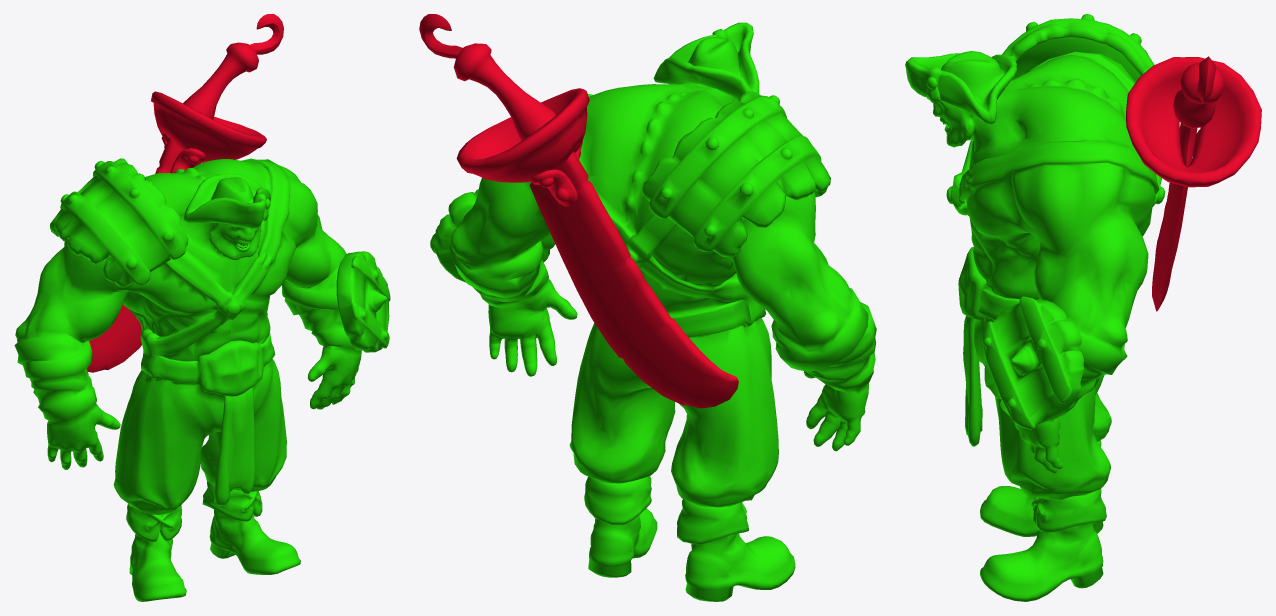
3 renders of one model, left to right at view 1: azimuth 30°, elevation 25°; view 2: azimuth 150°, elevation 25°; view 3: azimuth 270°, elevation 25°, orthographic. The views are drawn at different scales.
Visible parts, largest first — view 1: body_l, sword_lezvie_l; view 2: body_l, sword_lezvie_l; view 3: body_l, sword_lezvie_l.
Boxes of the visible parts, <box> form: body_l: <box>14,158,390,601</box>; sword_lezvie_l: <box>87,14,283,372</box>; body_l: <box>430,22,876,601</box>; sword_lezvie_l: <box>419,14,738,408</box>; body_l: <box>905,14,1165,601</box>; sword_lezvie_l: <box>1126,56,1261,311</box>.
Bounding box in the file's own units: 314 × 399 × 223.
